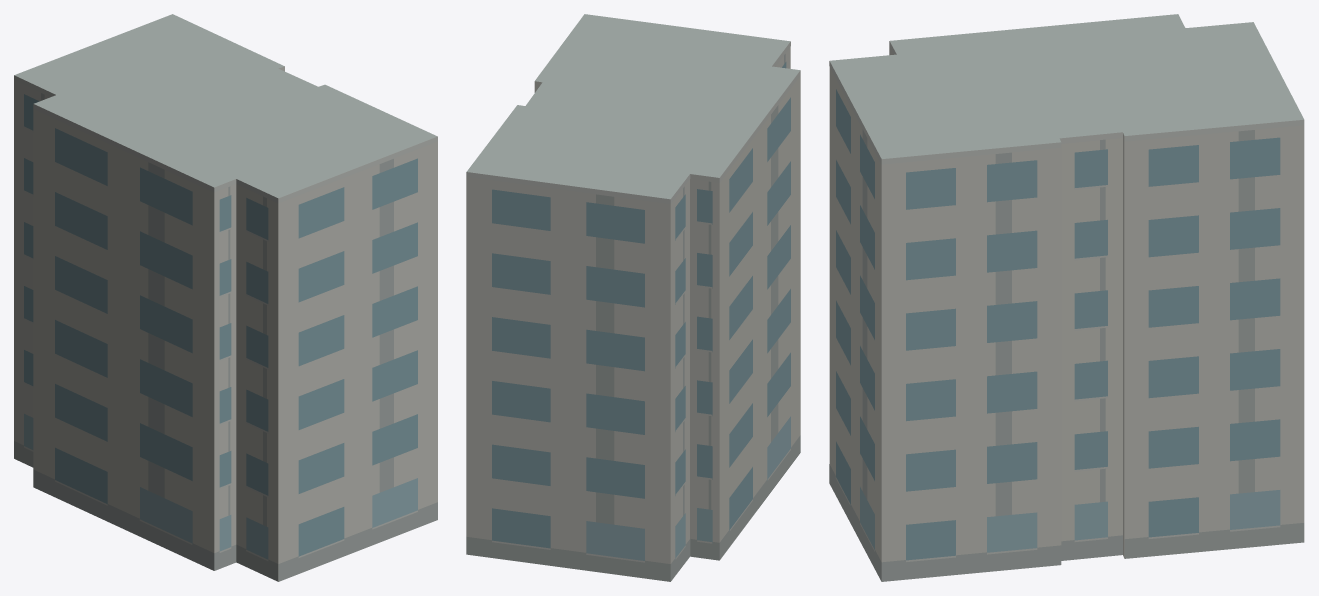
File: survey-upis-32572427.glb
3 renders of one model, left to right at view 1: azimuth 30°, elevation 25°; view 2: azimuth 150°, elevation 25°; view 3: azimuth 270°, elevation 25°, orthographic. The views are drawn at different scales.
Parts seen in each view (by area): view 1: survey-upis-32572427.tmp; view 2: survey-upis-32572427.tmp; view 3: survey-upis-32572427.tmp.
Part boxes in pixels (x1,y1,x2,y2): survey-upis-32572427.tmp: (14,14,437,581); survey-upis-32572427.tmp: (466,14,800,581); survey-upis-32572427.tmp: (829,14,1304,581).
Bounding box in the file's own units: 13.49 × 18.3 × 18.64.
